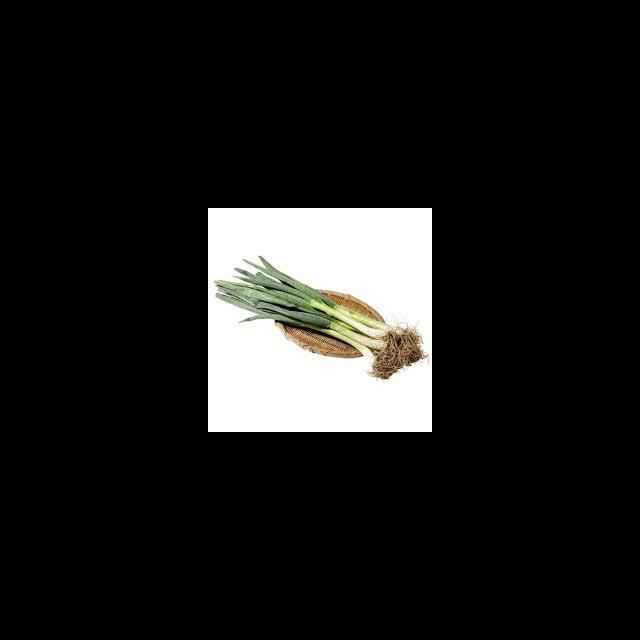green_onion: (215, 256, 425, 380)
